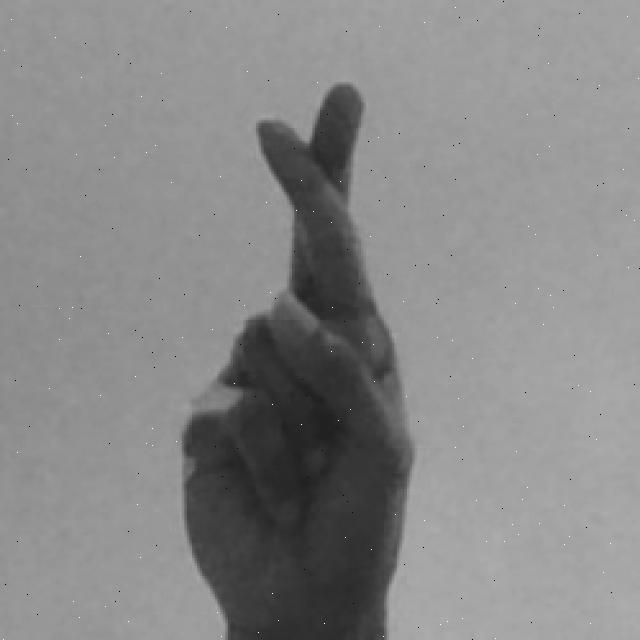R: (173, 81, 422, 640)
